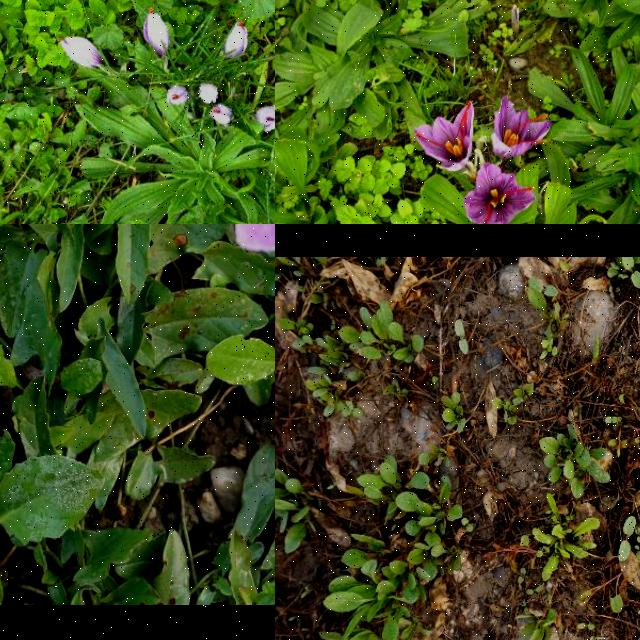flower: (465, 163, 537, 224), (413, 101, 475, 171), (491, 96, 554, 156), (58, 35, 106, 69), (143, 8, 169, 56), (226, 20, 248, 60), (255, 105, 275, 132), (167, 84, 189, 106), (210, 106, 234, 126), (199, 84, 219, 105)
